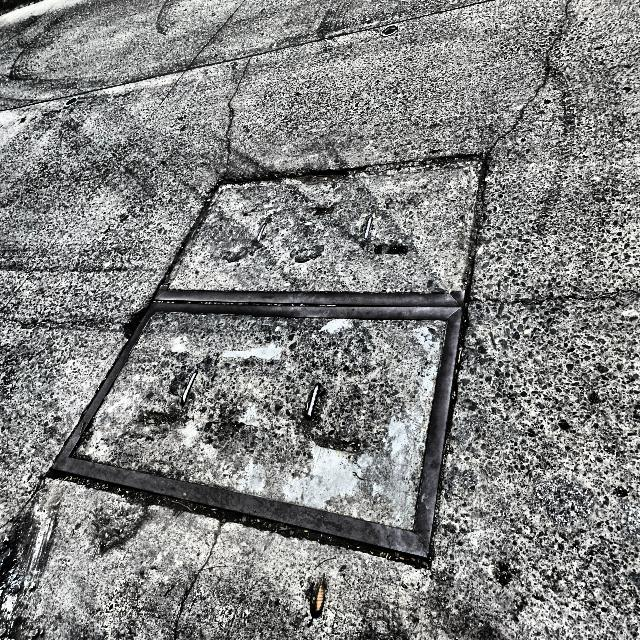major_scaling: (430, 2, 640, 638), (0, 95, 215, 421)
